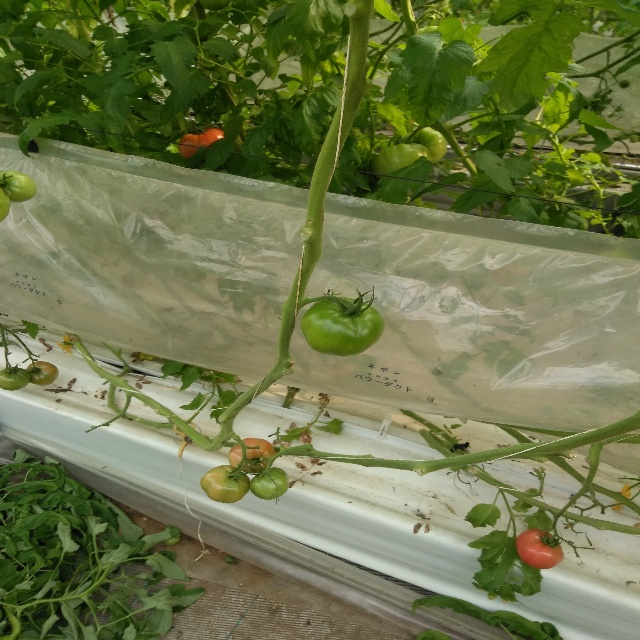b_fully_ripened: (516, 529, 564, 569)
b_green: (300, 295, 384, 357), (372, 143, 432, 179), (200, 465, 250, 504), (398, 127, 447, 164), (250, 467, 290, 500), (0, 171, 36, 202), (0, 367, 30, 391), (0, 187, 12, 223)
b_half_ripened: (227, 438, 277, 473), (178, 128, 224, 158), (26, 361, 59, 386)
